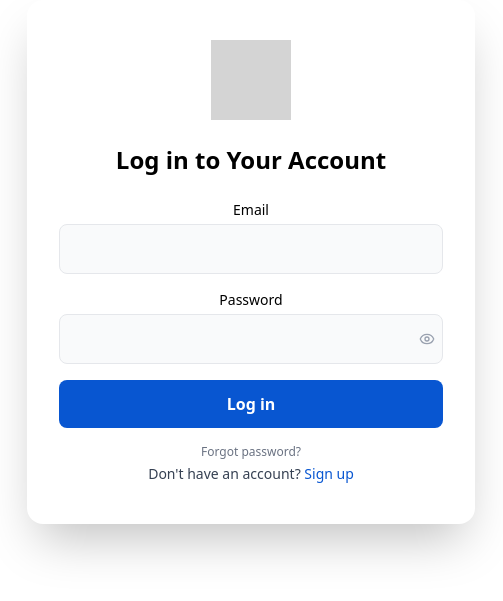
Scenario: Login › should clear validation errors when user starts typing
// Trigger validation errors
Click the button "Log in" at x=251, y=404, box [59,380,443,428]
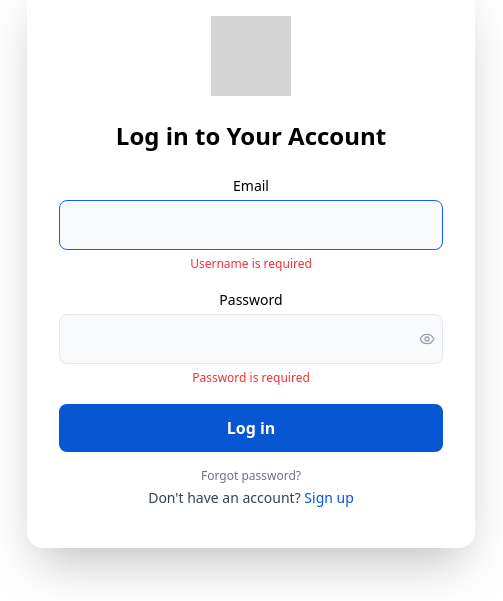
Check: the text "Username is required" is shown, box [190,255,312,272]
Check: the text "Password is required" is shown, box [192,369,310,386]
// Start typing to clear errors
Type "test@example.com" into the field labelled "Email" at x=251, y=225, box [59,200,443,250]
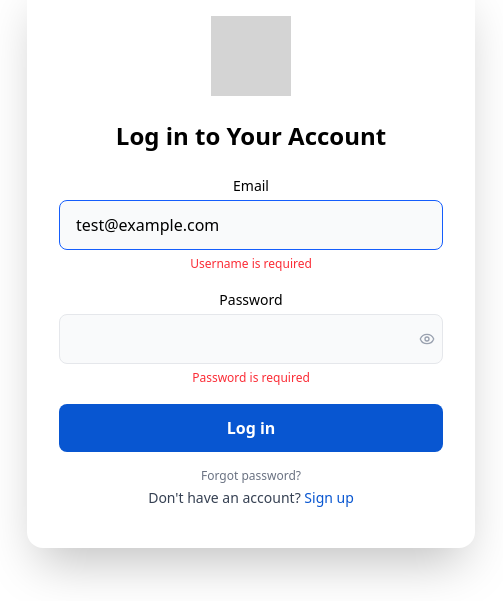
Type "password123" into the password field labelled "Password" at x=251, y=339, box [59,314,443,364]
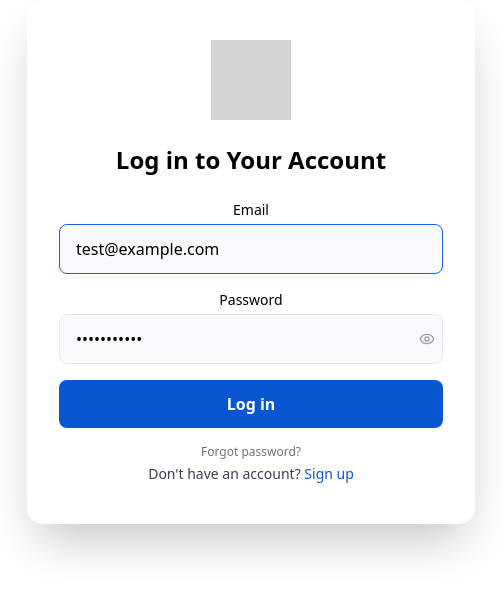
Check: the text "Username is required" is gone
Check: the text "Password is required" is gone
